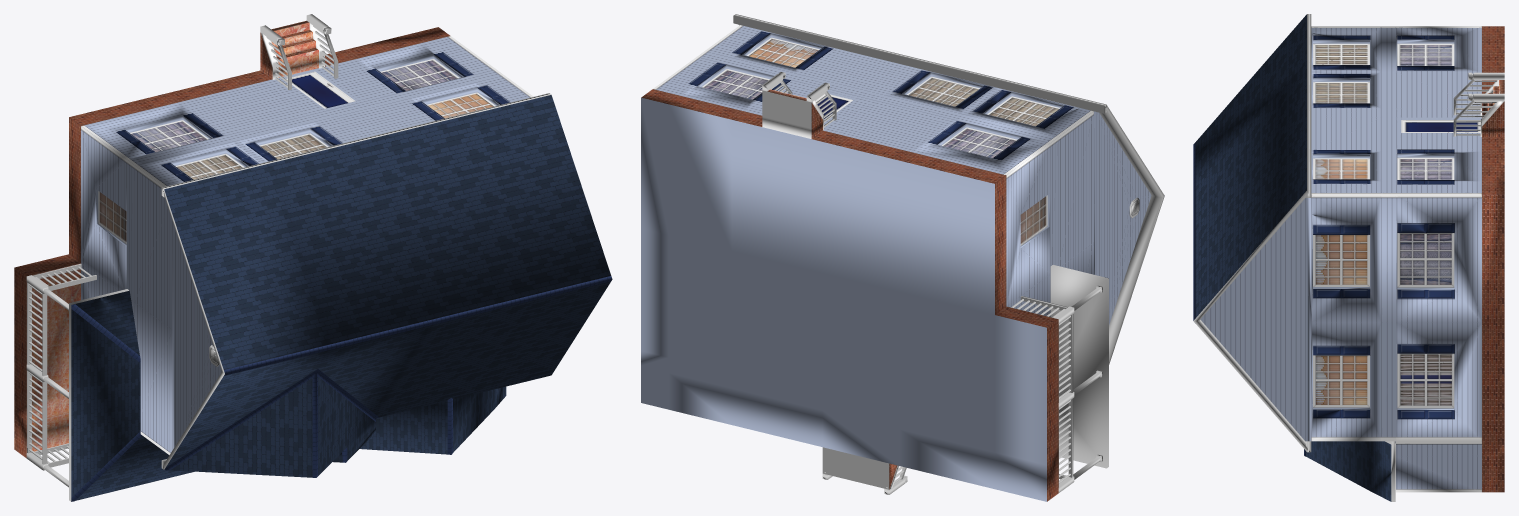
Rendered from LP_house_mod_14_obj.obj.
3 views of the same model, side by side, from view 1: azimuth 30°, elevation 25°; view 2: azimuth 150°, elevation 25°; view 3: azimuth 270°, elevation 25° (orthographic). The views are drawn at different scales.
Visible parts, largest first — view 1: LP_house_08, LP_house_wall, LP_house_09, LP_house_10, LP_house_04, LP_house_05, LP_house_06, LP_house_07, LP_house_12; view 2: LP_house_wall, LP_house_09, LP_house_08, LP_house_04, LP_house02, LP_house_05, LP_house_07, LP_house_06; view 3: LP_house_wall, LP_house_08, LP_house_09, LP_house_04, LP_house_03, LP_house_02, LP_house_10.
Boxes of the visible parts, x1=… form: LP_house_08: x1=161, y1=93, x2=611, y2=477; LP_house_wall: x1=14, y1=27, x2=533, y2=458; LP_house_09: x1=69, y1=289, x2=506, y2=501; LP_house_10: x1=71, y1=276, x2=612, y2=501; LP_house_04: x1=260, y1=20, x2=324, y2=79; LP_house_05: x1=29, y1=266, x2=91, y2=463; LP_house_06: x1=42, y1=275, x2=96, y2=467; LP_house_07: x1=26, y1=275, x2=68, y2=487; LP_house_12: x1=27, y1=264, x2=81, y2=455; LP_house_wall: x1=641, y1=25, x2=1151, y2=501; LP_house_09: x1=1050, y1=265, x2=1108, y2=468; LP_house_08: x1=733, y1=14, x2=1164, y2=364; LP_house_04: x1=762, y1=89, x2=823, y2=138; LP_house02: x1=822, y1=447, x2=899, y2=489; LP_house_05: x1=824, y1=299, x2=1070, y2=488; LP_house_07: x1=1054, y1=285, x2=1102, y2=492; LP_house_06: x1=1020, y1=296, x2=1073, y2=479; LP_house_wall: x1=1200, y1=26, x2=1504, y2=492; LP_house_08: x1=1193, y1=14, x2=1311, y2=452; LP_house_09: x1=1306, y1=441, x2=1395, y2=501; LP_house_04: x1=1480, y1=80, x2=1504, y2=136; LP_house_03: x1=1456, y1=80, x2=1497, y2=135; LP_house_02: x1=1468, y1=72, x2=1504, y2=101; LP_house_10: x1=1193, y1=142, x2=1305, y2=456.
Size of the model in its own units: 1656 by 1440 by 1100.
